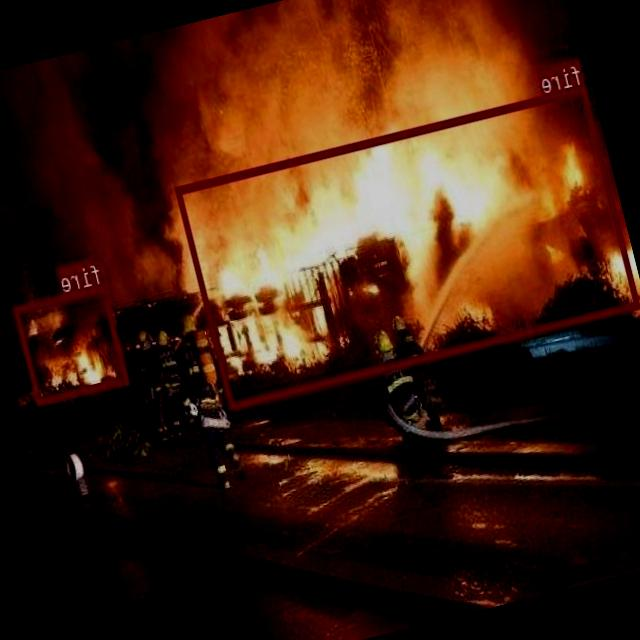fire: (175, 83, 640, 408), (14, 283, 130, 405)
